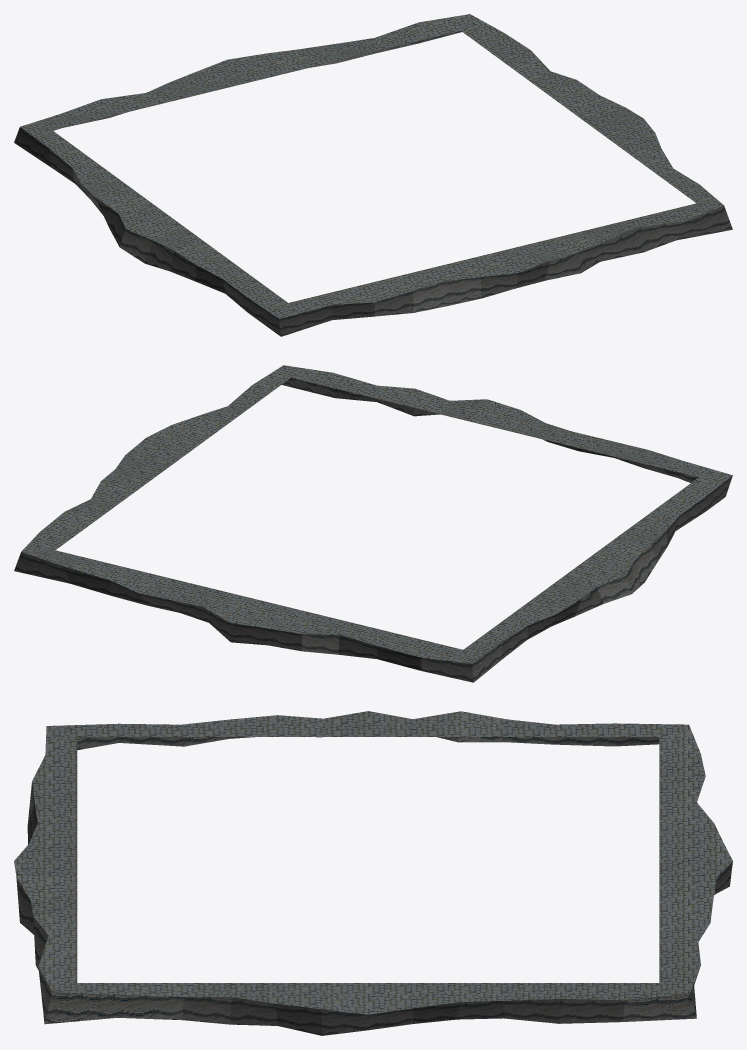
Rendered from entorno_18.fbx.
3 views of the same model, one above another, from view 1: azimuth 30°, elevation 25°; view 2: azimuth 150°, elevation 25°; view 3: azimuth 270°, elevation 25° (orthographic). The views are drawn at different scales.
Visible parts, largest first — view 1: pedreira_entorno_18; view 2: pedreira_entorno_18; view 3: pedreira_entorno_18.
Boxes of the visible parts, <box> form: pedreira_entorno_18: <box>14,14,732,336</box>; pedreira_entorno_18: <box>14,365,732,682</box>; pedreira_entorno_18: <box>14,711,732,1035</box>.
Size of the model in its own units: 2260 by 107 by 2249.
2 materials, 2 textured.
